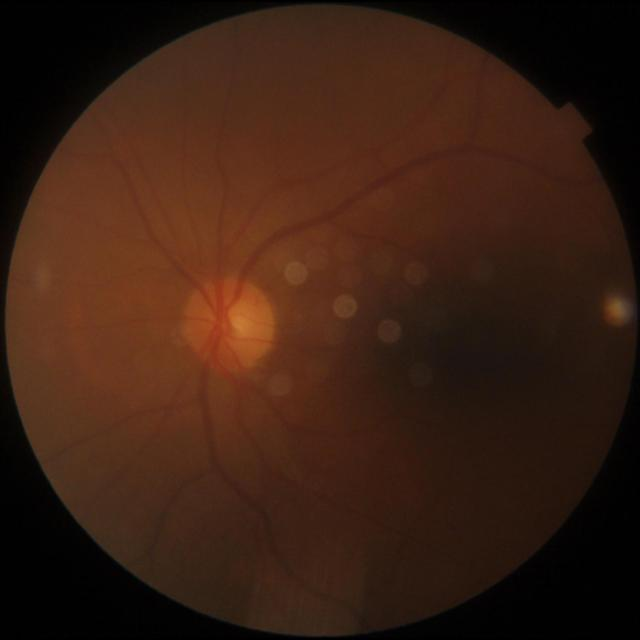OC: (229, 315, 248, 336)
OD: (182, 279, 274, 373)
